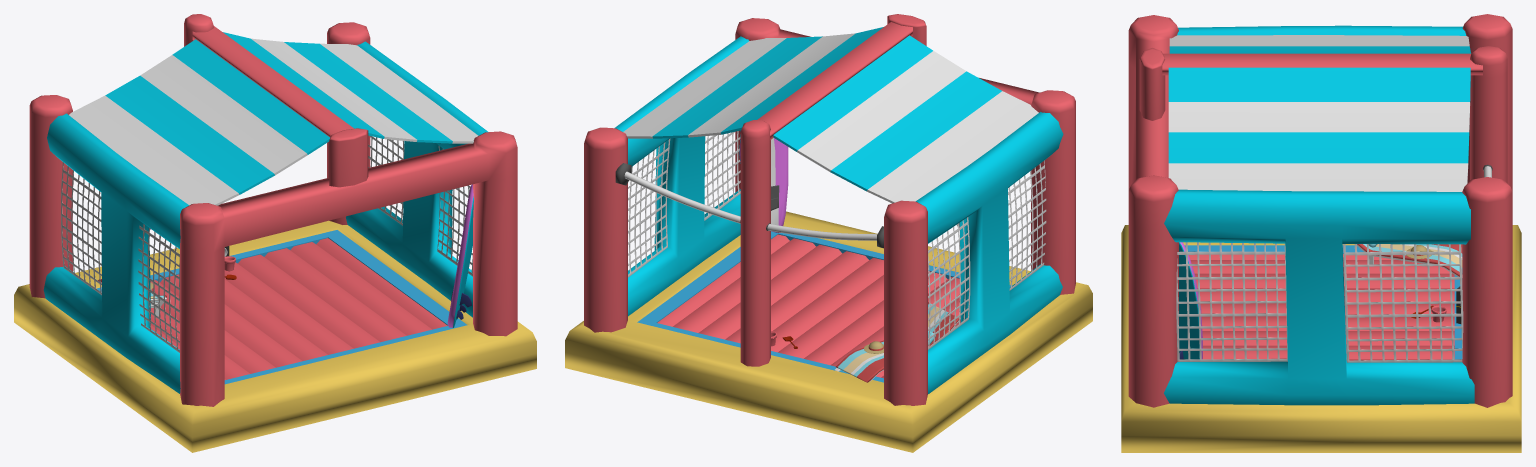
Rendered from CasaConProps (1).fbx.
3 views of the same model, side by side, from view 1: azimuth 30°, elevation 25°; view 2: azimuth 150°, elevation 25°; view 3: azimuth 270°, elevation 25° (orthographic). The views are drawn at different scales.
Visible parts, largest first — view 1: walls, base, surfBoard, pilar; view 2: walls, base, pilar, cuerda1, pCube205, surfBoard; view 3: walls, base, pilar, surfBoard, pCube205.
Boxes of the visible parts, x1=… form: walls: x1=29, y1=22, x2=517, y2=406; base: x1=14, y1=220, x2=536, y2=452; surfBoard: x1=447, y1=184, x2=473, y2=327; pilar: x1=184, y1=14, x2=213, y2=46; walls: x1=584, y1=14, x2=1075, y2=405; base: x1=565, y1=211, x2=1092, y2=452; pilar: x1=740, y1=120, x2=770, y2=366; cuerda1: x1=615, y1=163, x2=883, y2=248; pCube205: x1=835, y1=302, x2=960, y2=382; surfBoard: x1=739, y1=130, x2=788, y2=232; walls: x1=1128, y1=14, x2=1512, y2=407; base: x1=1121, y1=225, x2=1521, y2=452; pilar: x1=1470, y1=46, x2=1507, y2=183; surfBoard: x1=1179, y1=242, x2=1202, y2=359; pCube205: x1=1357, y1=244, x2=1462, y2=278.
Size of the model in its own units: 4553 by 3447 by 4080.
